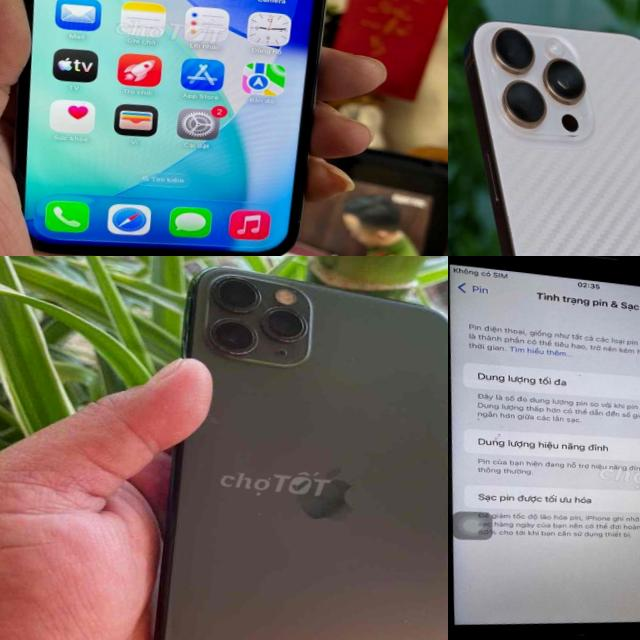gen_11: (154, 268, 448, 640)
gen_12_13: (0, 0, 353, 256)
gen_16: (465, 22, 640, 256)
